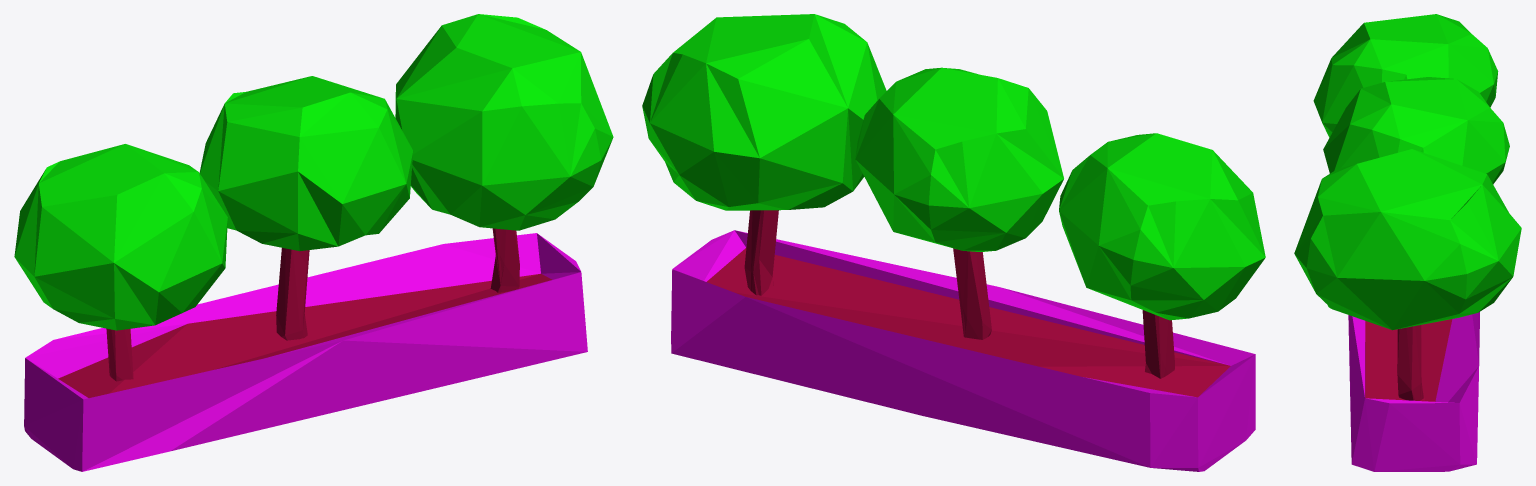
Rendered from planter.fbx.
3 renders of one model, left to right at view 1: azimuth 30°, elevation 25°; view 2: azimuth 150°, elevation 25°; view 3: azimuth 270°, elevation 25°, orthographic. The views are drawn at different scales.
Parts seen in each view (by area): view 1: pCube1, pCube3, pCube4, pCube2, pCube6, pCube7, pCube5; view 2: pCube1, pCube3, pCube2, pCube4, pCube6, pCube7, pCube5; view 3: pCube3, pCube1, pCube2, pCube4, pCube7.
Part boxes in pixels (x1=…): pCube1: x1=24, y1=233, x2=587, y2=471; pCube3: x1=395, y1=14, x2=613, y2=230; pCube4: x1=14, y1=144, x2=227, y2=330; pCube2: x1=199, y1=76, x2=412, y2=251; pCube6: x1=276, y1=248, x2=309, y2=340; pCube7: x1=490, y1=228, x2=519, y2=292; pCube5: x1=106, y1=328, x2=133, y2=381; pCube1: x1=671, y1=230, x2=1255, y2=471; pCube3: x1=642, y1=14, x2=886, y2=210; pCube2: x1=855, y1=67, x2=1063, y2=252; pCube4: x1=1059, y1=133, x2=1265, y2=320; pCube6: x1=953, y1=248, x2=991, y2=339; pCube7: x1=744, y1=210, x2=778, y2=295; pCube5: x1=1142, y1=310, x2=1174, y2=378; pCube3: x1=1294, y1=149, x2=1521, y2=330; pCube1: x1=1348, y1=312, x2=1479, y2=471; pCube2: x1=1323, y1=77, x2=1509, y2=184; pCube4: x1=1313, y1=14, x2=1498, y2=137; pCube7: x1=1397, y1=325, x2=1423, y2=400.
Size of the model in its own units: 223 by 115 by 85.17.
